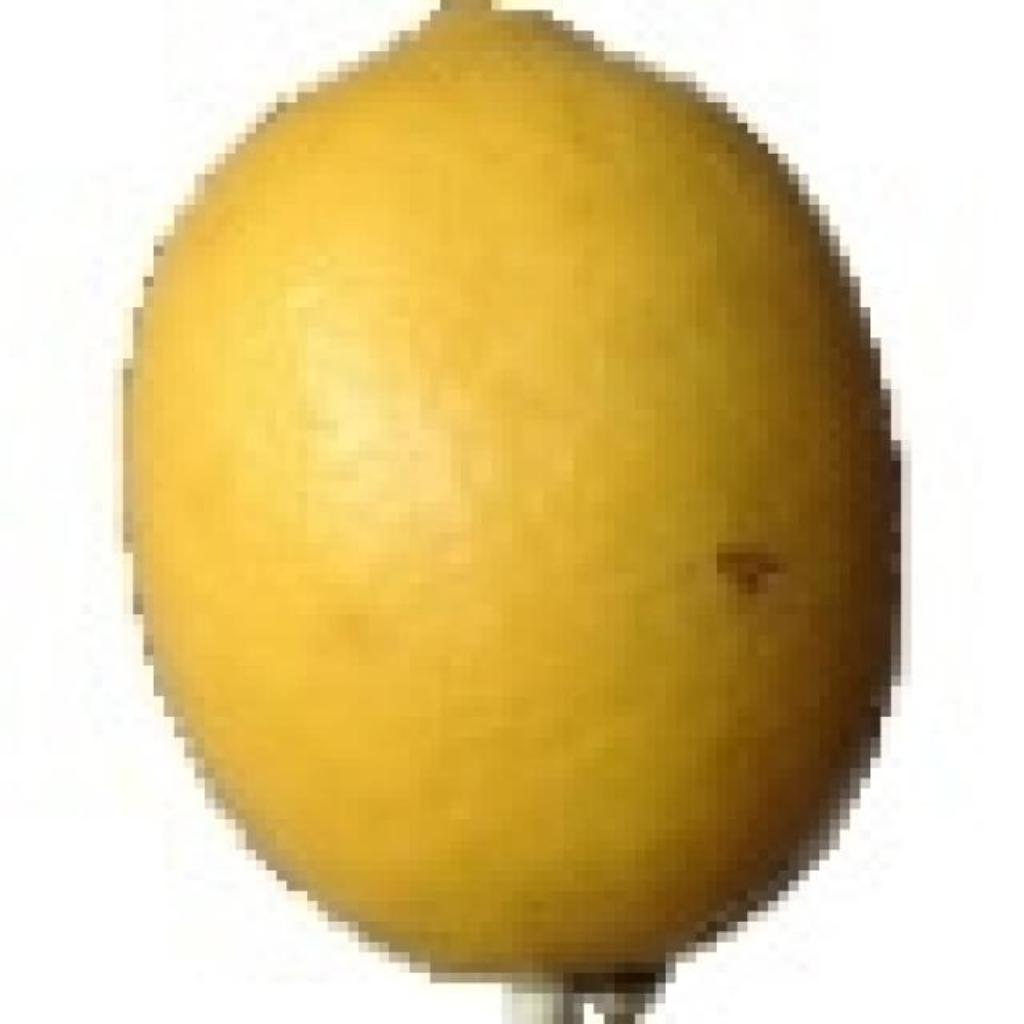lemon: (128, 0, 894, 992)
